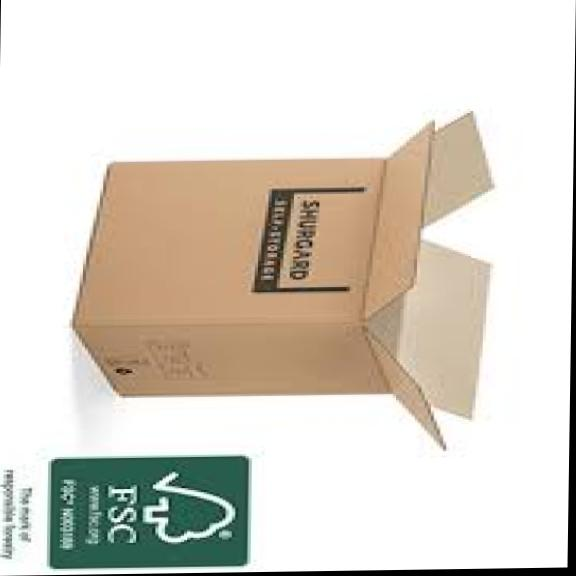Kertas: (75, 116, 490, 444)
